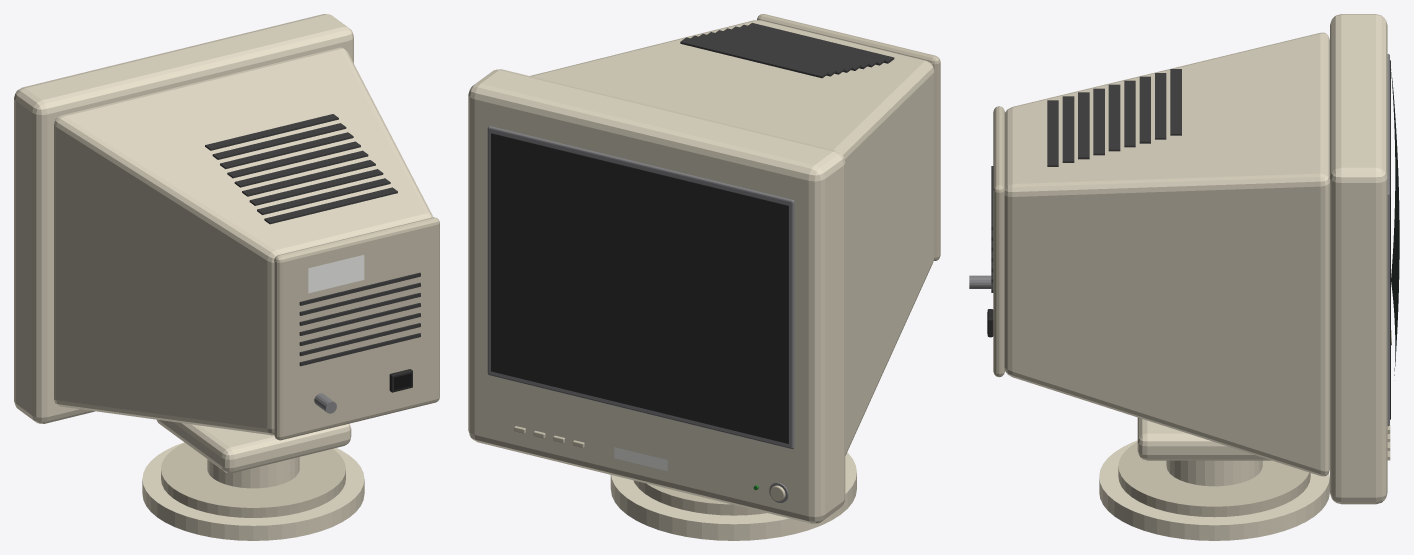
Rendered from crt_17.glb.
The picture shows the model from 3 angles, left to right: view 1: azimuth 30°, elevation 25°; view 2: azimuth 150°, elevation 25°; view 3: azimuth 270°, elevation 25°; orthographic projection. The views are drawn at different scales.
Visible parts, largest first — view 1: body, label; view 2: body, badge_front; view 3: body, screen.
Boxes of the visible parts, left/top/right/bottom form: body: left=14, top=14, right=439, bottom=540; label: left=308, top=255, right=364, bottom=293; body: left=468, top=14, right=940, bottom=540; badge_front: left=614, top=447, right=667, bottom=471; body: left=969, top=14, right=1390, bottom=540; screen: left=1391, top=69, right=1399, bottom=375.
Bounding box in the file's own units: 0.4 × 0.46 × 0.4475.
